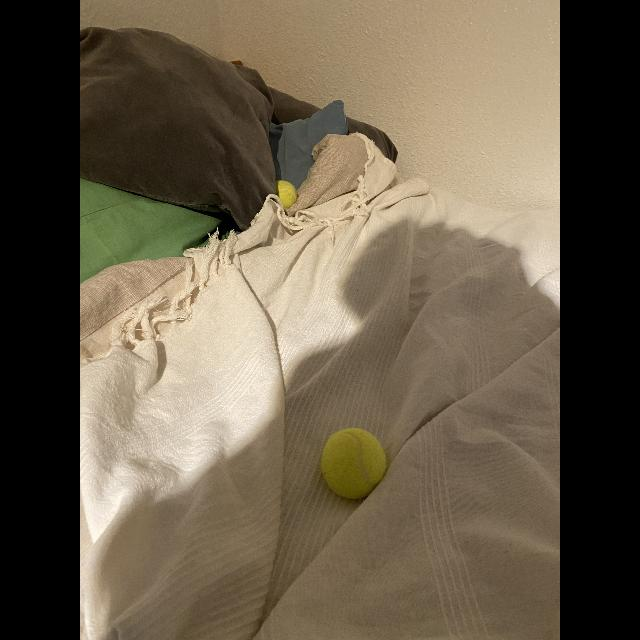Tennisball: (320, 428, 387, 500), (277, 180, 298, 210)
